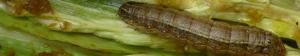fallarmy_worm: (116, 1, 292, 56)
